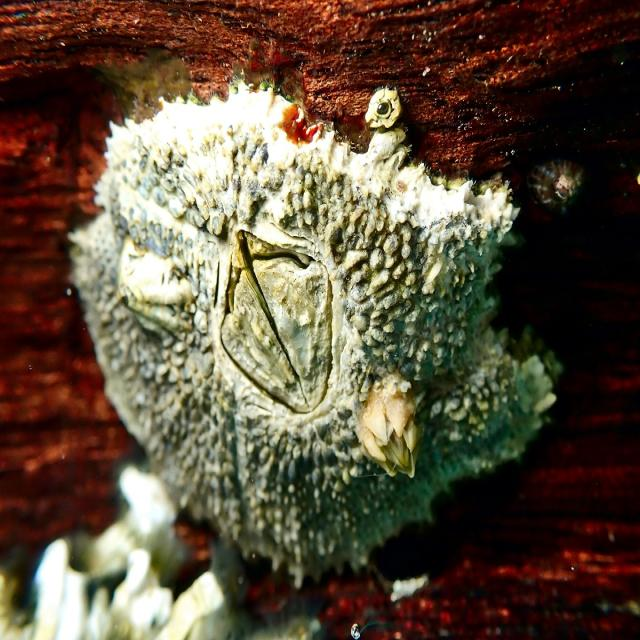barnacles: (65, 96, 555, 588), (354, 366, 434, 485)
